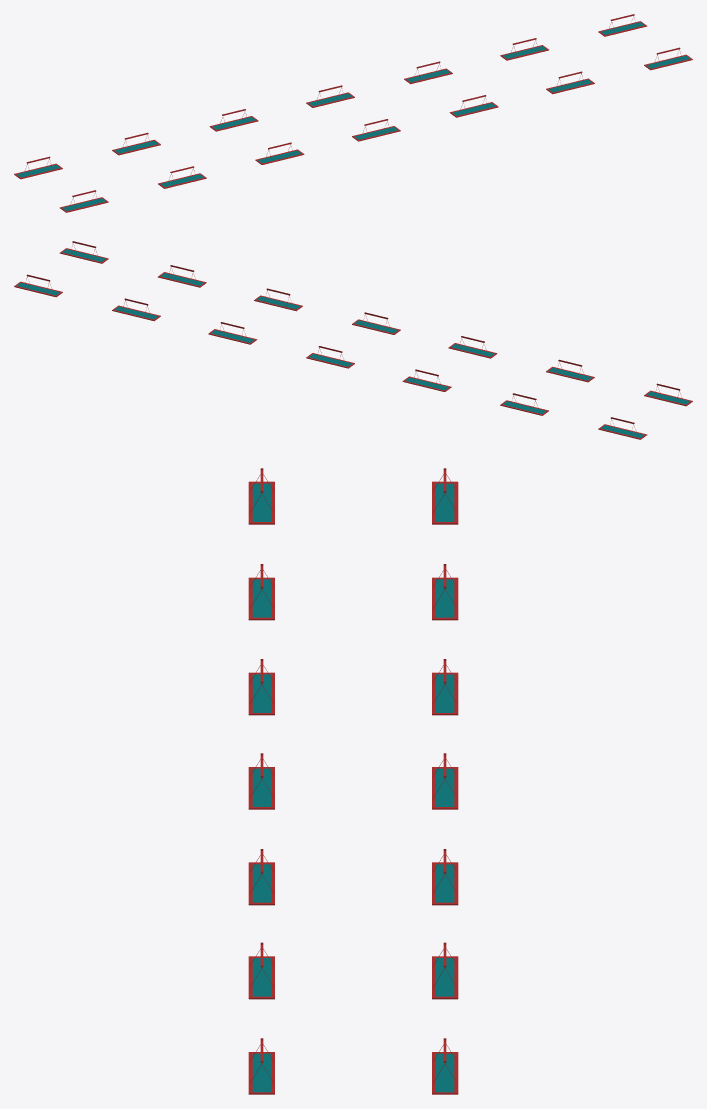
Rendered from SM_Lampen.fbx.
The picture shows the model from 3 angles, top to bottom: view 1: azimuth 30°, elevation 25°; view 2: azimuth 150°, elevation 25°; view 3: azimuth 270°, elevation 25°; orthographic projection. The views are drawn at different scales.
Visible parts, largest first — view 1: SM_Lampen; view 2: SM_Lampen; view 3: SM_Lampen.
Boxes of the visible parts, x1=… form: SM_Lampen: x1=14, y1=14, x2=692, y2=212; SM_Lampen: x1=14, y1=241, x2=692, y2=439; SM_Lampen: x1=248, y1=468, x2=458, y2=1094.
Size of the model in its own units: 1773 by 32.96 by 257.
